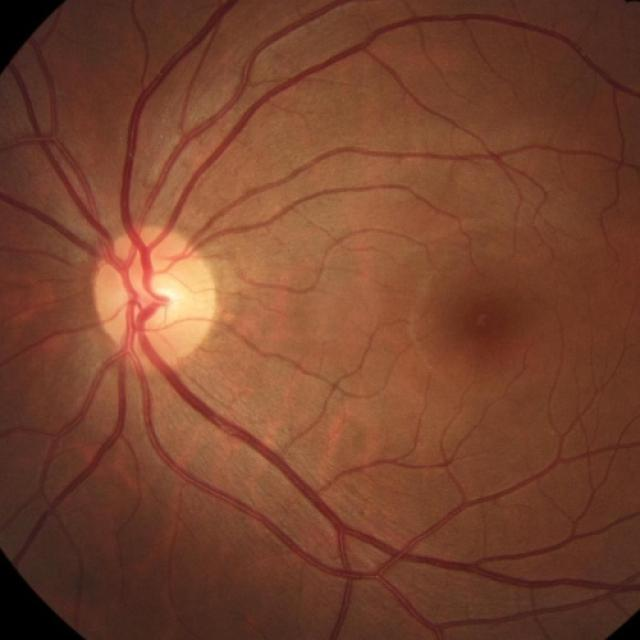OC: (138, 276, 184, 326)
OD: (93, 224, 217, 364)
